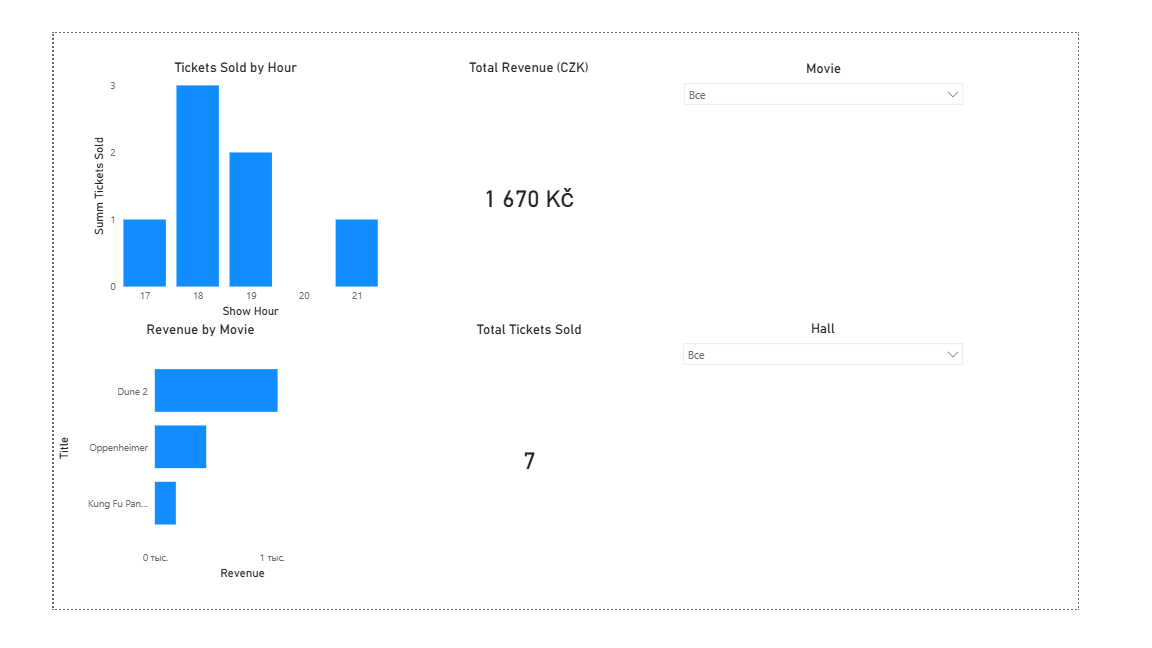

The dashboard page shown, as its layout file describes it:
{"tool":"powerbi","page":{"name":"Страница 1","canvas":[1280,720],"ordinal":0},"visuals":[{"type":"clusteredColumnChart","title":"Tickets Sold by Hour","fields":{"Category":["cinema_dashboard_data.show_hour"],"Y":["Sum(cinema_dashboard_data.tickets_sold)"]},"box":[43.3,32.2,366.3,327.5],"z":0},{"type":"clusteredBarChart","title":"Revenue by Movie","fields":{"Category":["cinema_dashboard_data.title"],"Y":["Sum(cinema_dashboard_data.revenue)"]},"box":[0,360,366.2,327.5],"z":1000},{"type":"card","title":"Total Revenue (CZK)","fields":{"Values":["Sum(cinema_dashboard_data.revenue)"]},"box":[410,32.5,366.2,326.2],"z":2000},{"type":"card","title":"Total Tickets Sold","fields":{"Values":["Sum(cinema_dashboard_data.tickets_sold)"]},"box":[410,360,367.5,327.5],"z":3000},{"type":"slicer","title":"Movie","fields":{"Values":["cinema_dashboard_data.title"]},"box":[777.5,33.8,368.8,326.2],"z":3001},{"type":"slicer","title":"Hall","fields":{"Values":["cinema_dashboard_data.hall_name"]},"box":[776.2,358.8,370,318.8],"z":3002}]}

Visuals, with their boxes in screenshot pixels (x1, y1, x2, y2), scaled from the page's 1280x720 canvas onto the 1152x648 screenshot:
"Tickets Sold by Hour" clusteredColumnChart: crop(39, 29, 369, 324)
"Revenue by Movie" clusteredBarChart: crop(0, 324, 330, 619)
"Total Revenue (CZK)" card: crop(369, 29, 699, 323)
"Total Tickets Sold" card: crop(369, 324, 700, 619)
"Movie" slicer: crop(700, 30, 1032, 324)
"Hall" slicer: crop(699, 323, 1032, 610)
